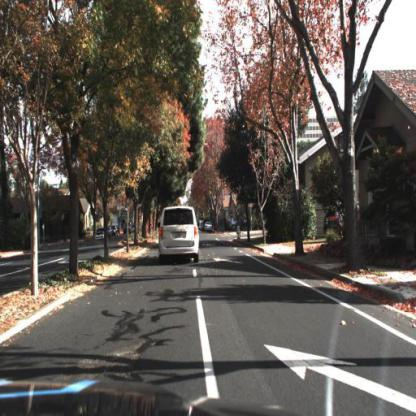car: (154, 205, 202, 265)
